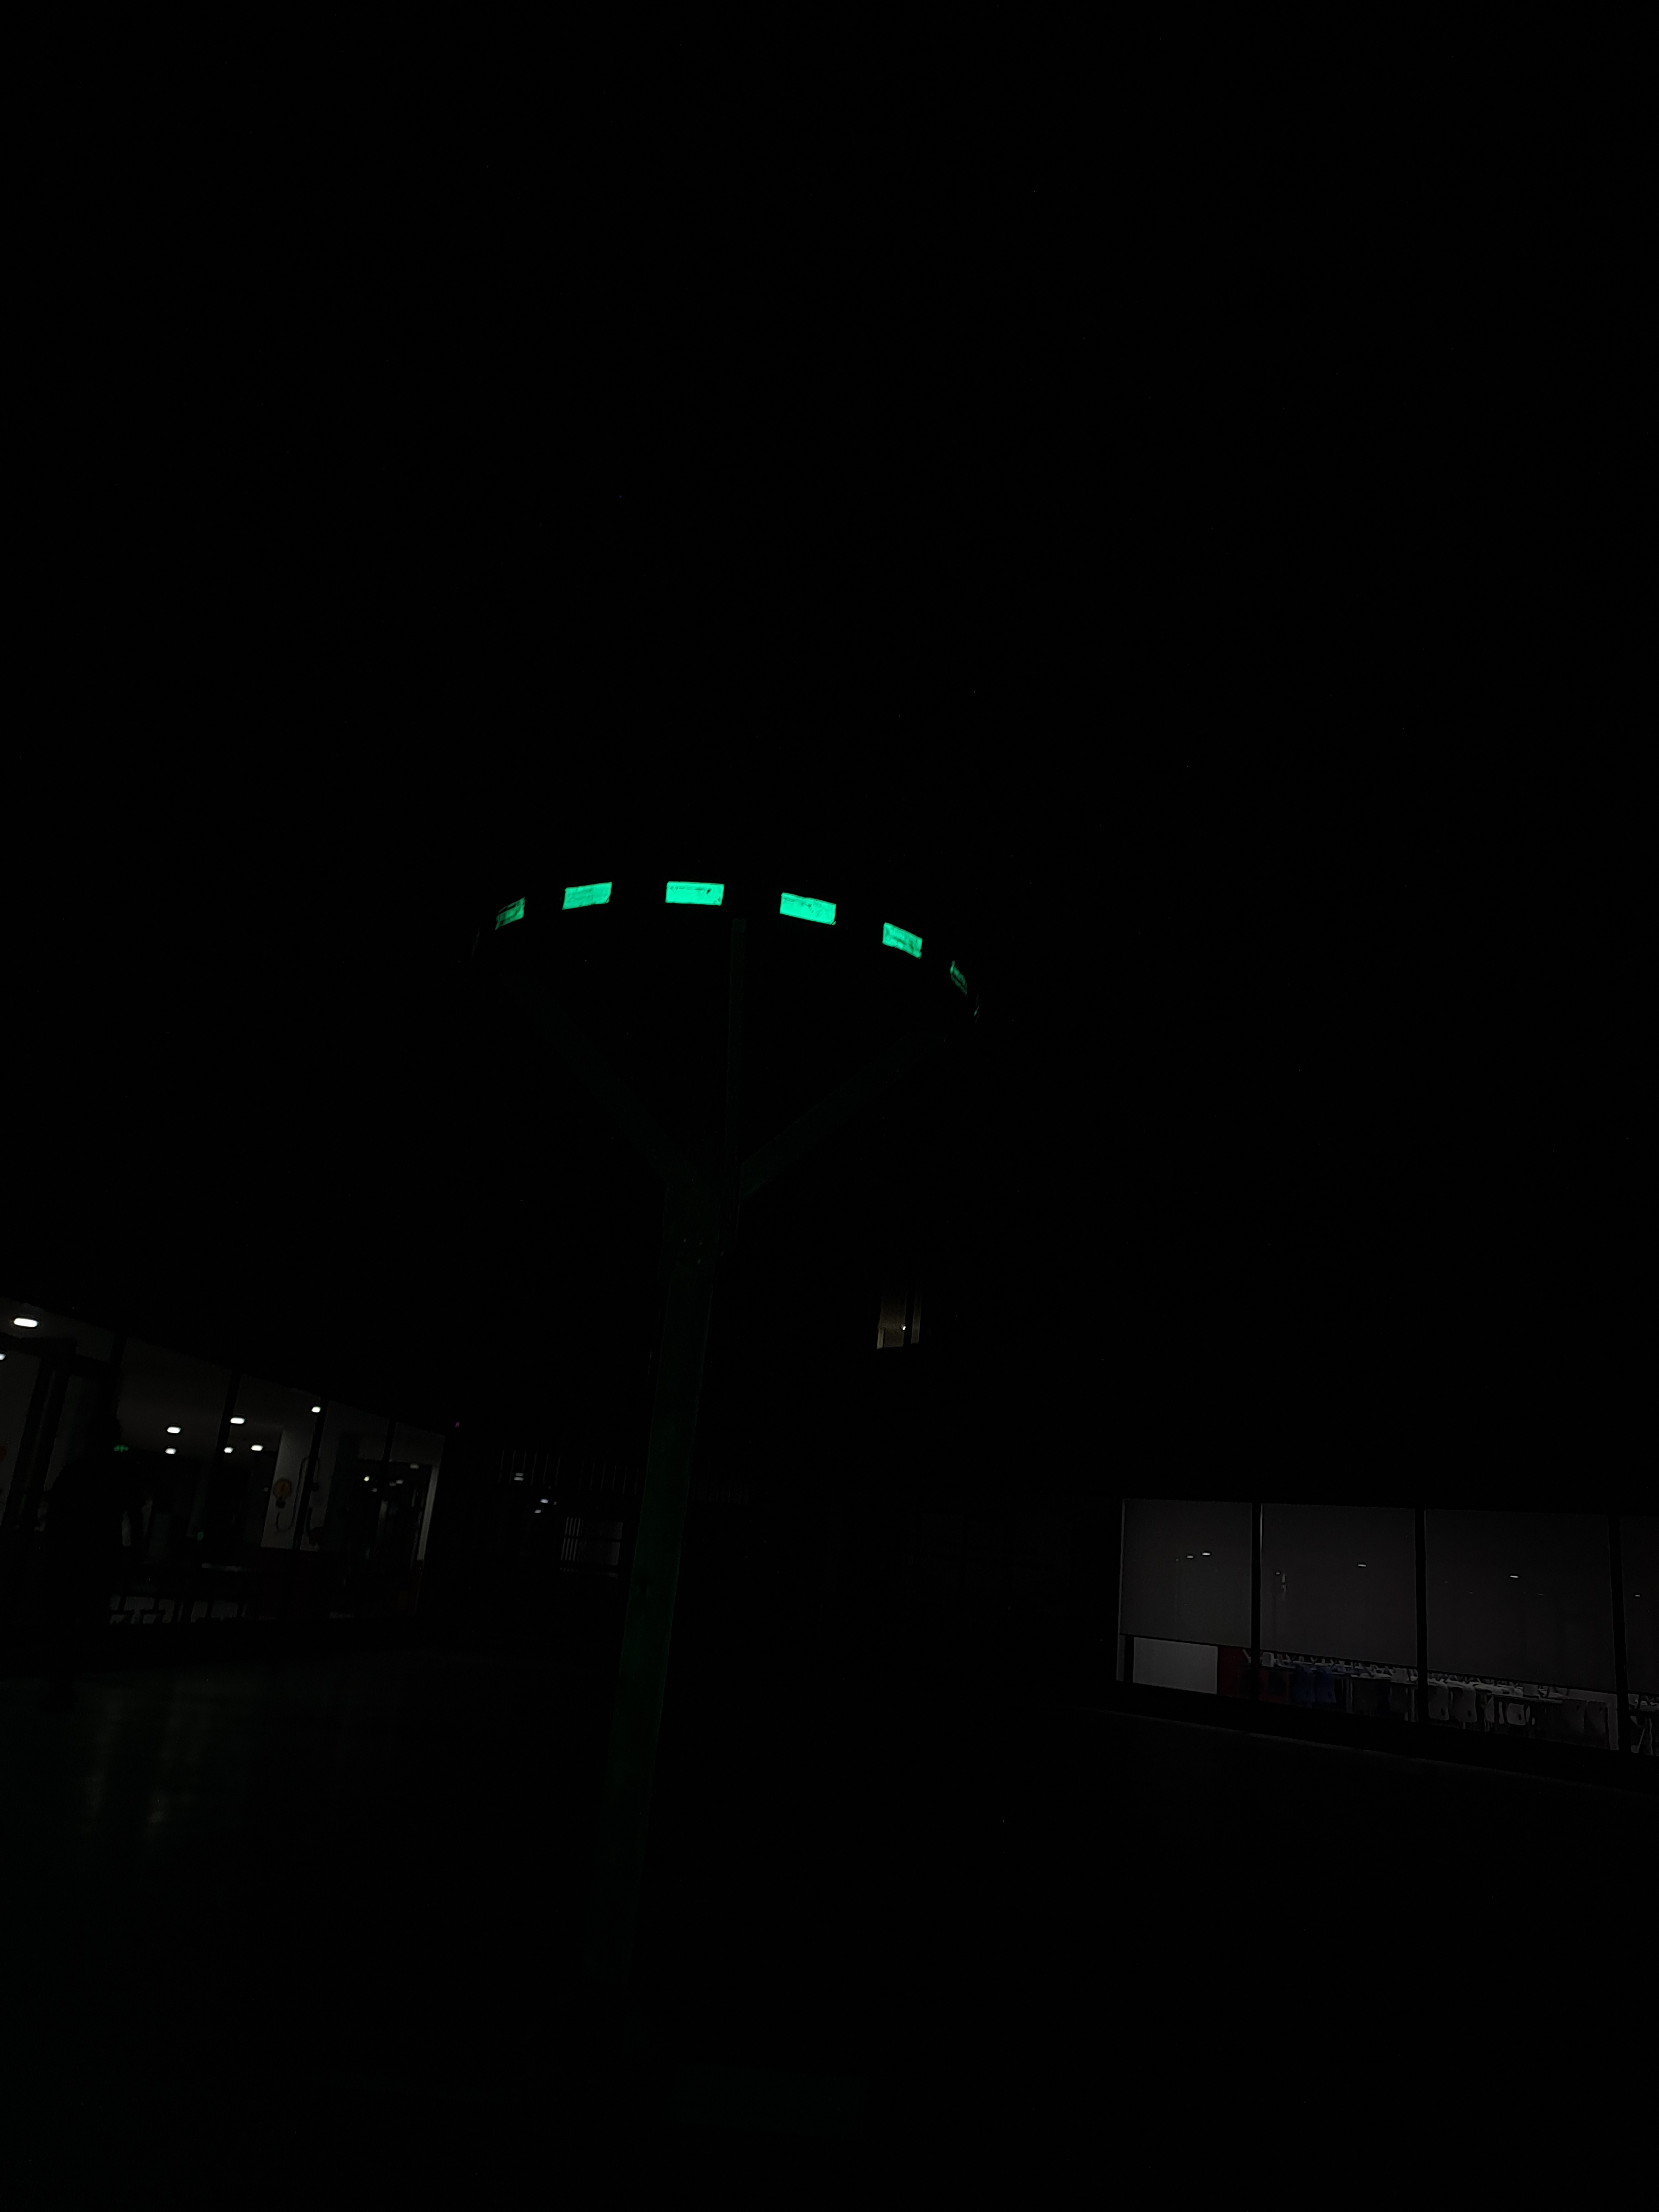hoop: (493, 869, 927, 974)
